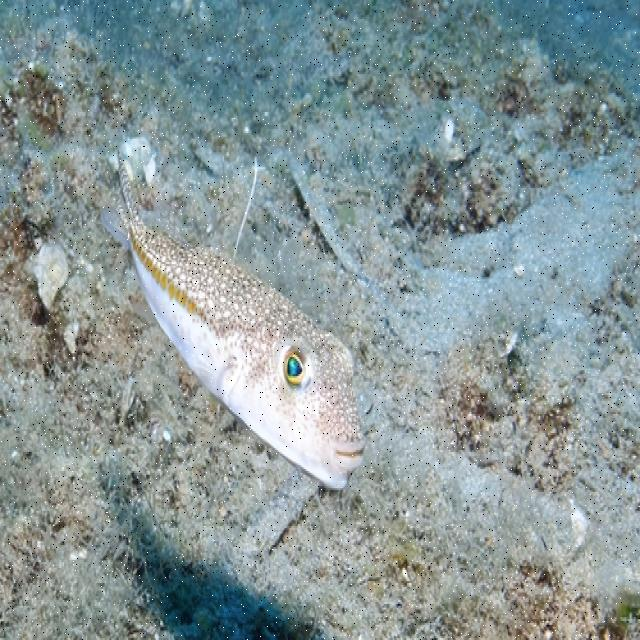Balik: (103, 158, 364, 489)
